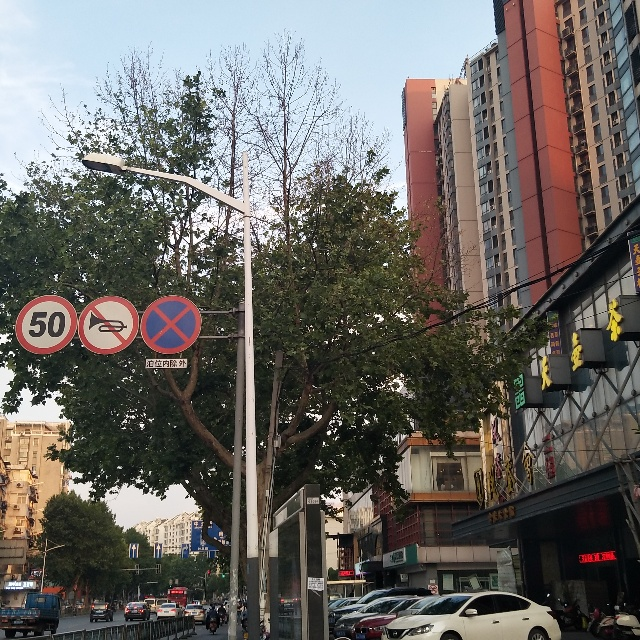nohonk: (79, 295, 138, 354)
stop: (141, 296, 199, 353)
